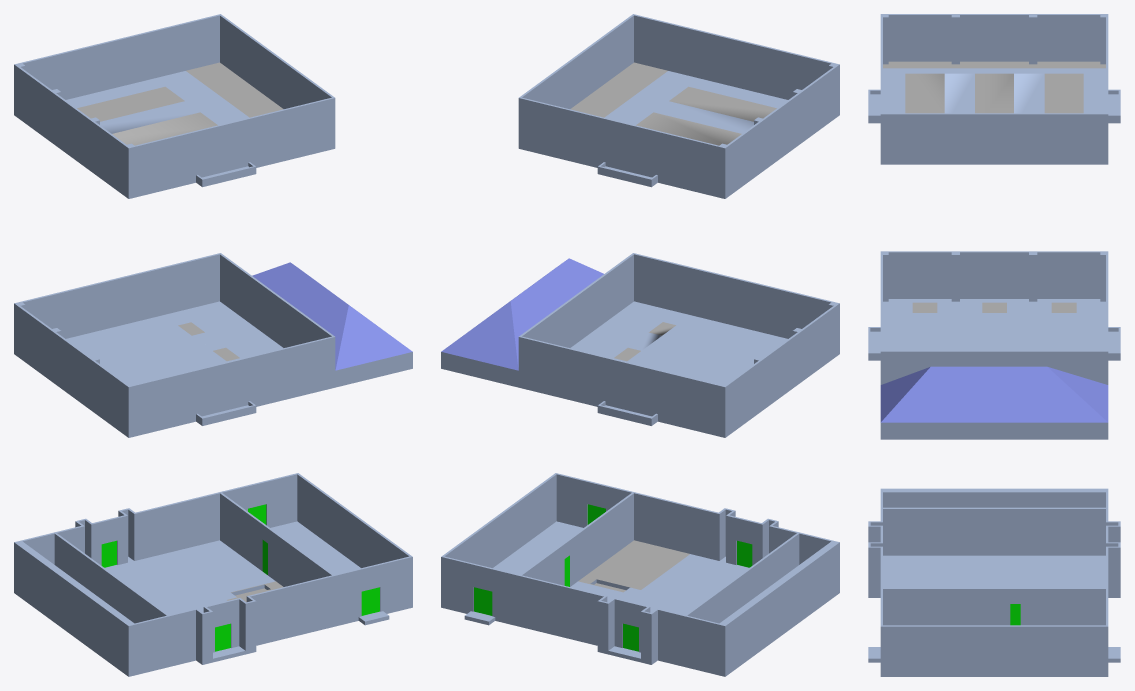
The model's file is Dewatering_Building_expansion.glb.
3 views of the same model, side by side, from view 1: azimuth 30°, elevation 25°; view 2: azimuth 150°, elevation 25°; view 3: azimuth 270°, elevation 25° (orthographic).
Parts seen in each view (by area): view 1: Floor1, Floor2, Floor3; view 2: Floor1, Floor2, Floor3; view 3: Floor1, Floor2, Floor3.
Part boxes in pixels (x1=…): Floor1: x1=14, y1=473, x2=412, y2=676; Floor2: x1=14, y1=253, x2=412, y2=437; Floor3: x1=14, y1=14, x2=335, y2=198; Floor1: x1=441, y1=473, x2=839, y2=676; Floor2: x1=441, y1=253, x2=839, y2=437; Floor3: x1=518, y1=14, x2=839, y2=198; Floor1: x1=868, y1=488, x2=1120, y2=676; Floor2: x1=868, y1=251, x2=1120, y2=439; Floor3: x1=868, y1=14, x2=1120, y2=164.
Size of the model in its own units: 31.62 by 56.2 by 24.5.
